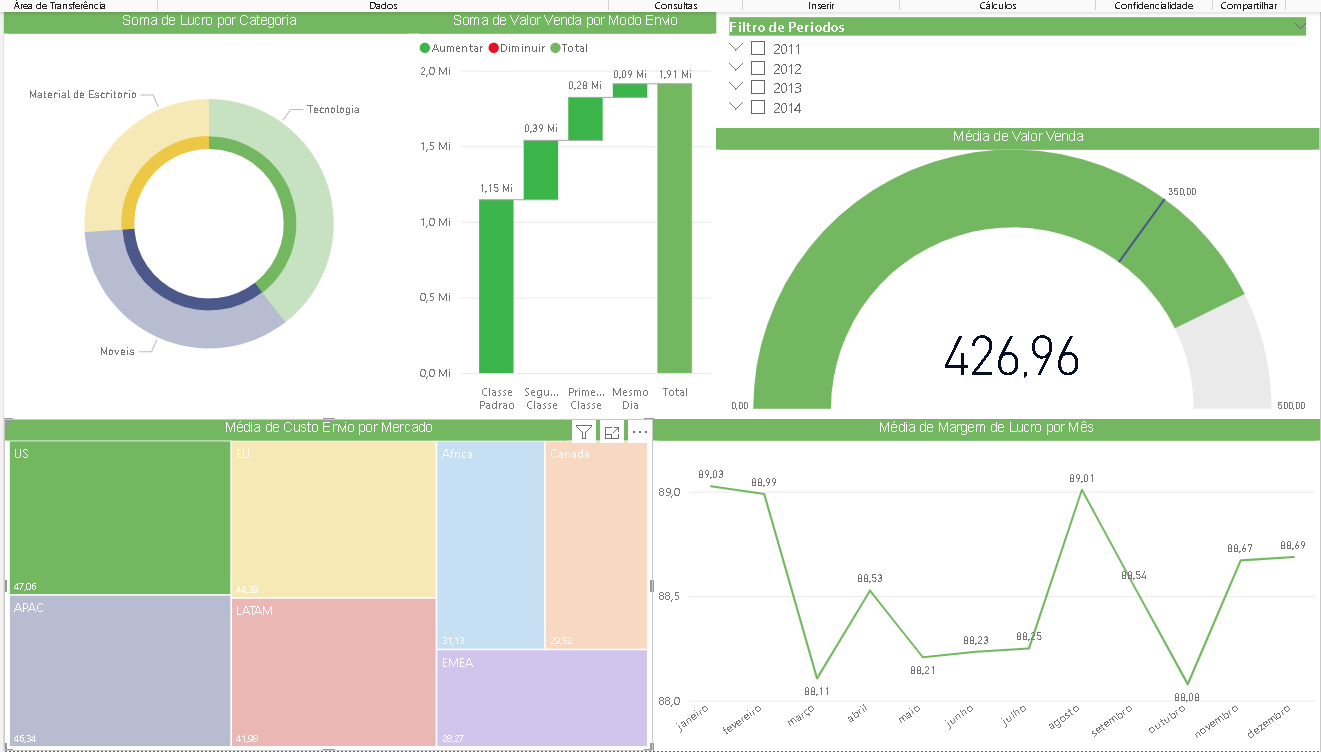

Layout of this report page (visuals, bound fields, positions):
{"tool":"powerbi","page":{"name":"Vendas | DataScience Academy","canvas":[1280,720],"ordinal":0},"visuals":[{"type":"waterfallChart","fields":{"Category":["Pedidos.Modo Envio"],"Y":["Sum(Vendas.Valor Venda)"]},"box":[398.8,0,293.7,395.9],"z":0},{"type":"treemap","fields":{"Group":["Clientes.Mercado"],"Values":["Avg(Vendas.Custo Envio)"]},"box":[0,395.9,631.2,323.9],"z":1000},{"type":"gauge","fields":{"Y":["Avg(Vendas.Valor Venda)"]},"box":[692.5,112.8,587.5,283],"z":2000},{"type":"slicer","fields":{"Values":["Pedidos.Data Pedido.Variation.Hierarquia de datas.Ano","Pedidos.Data Pedido.Variation.Hierarquia de datas.Mês"]},"box":[692.5,0,587.5,112.8],"z":3000},{"type":"donutChart","fields":{"Category":["Produtos.Categoria"],"Y":["Sum(Vendas.Lucro)"]},"box":[0,0,398.8,395.9],"z":4000},{"type":"lineChart","fields":{"Category":["Pedidos.Data Pedido.Variation.Hierarquia de datas.Ano","Pedidos.Data Pedido.Variation.Hierarquia de datas.Mês"],"Y":["Avg(Vendas.Margem de Lucro)"]},"box":[631.2,395.9,648.8,323.9],"z":5000}]}

Visuals, with their boxes on the page's 1280x720 design canvas (x1, y1, x2, y2). These are canvas units, not pixel positions in the 1321x752 screenshot, which may show the page scaled, cropped or inside an application window:
waterfallChart - Pedidos.Modo Envio x Sum(Vendas.Valor Venda): bbox=[399, 0, 692, 396]
treemap - Clientes.Mercado x Avg(Vendas.Custo Envio): bbox=[0, 396, 631, 720]
gauge - Avg(Vendas.Valor Venda): bbox=[692, 113, 1280, 396]
slicer - Pedidos.Data Pedido.Variation.Hierarquia de datas.Ano x Pedidos.Data Pedido.Variation.Hierarquia de datas.Mês: bbox=[692, 0, 1280, 113]
donutChart - Produtos.Categoria x Sum(Vendas.Lucro): bbox=[0, 0, 399, 396]
lineChart - Pedidos.Data Pedido.Variation.Hierarquia de datas.Ano x Pedidos.Data Pedido.Variation.Hierarquia de datas.Mês: bbox=[631, 396, 1280, 720]
